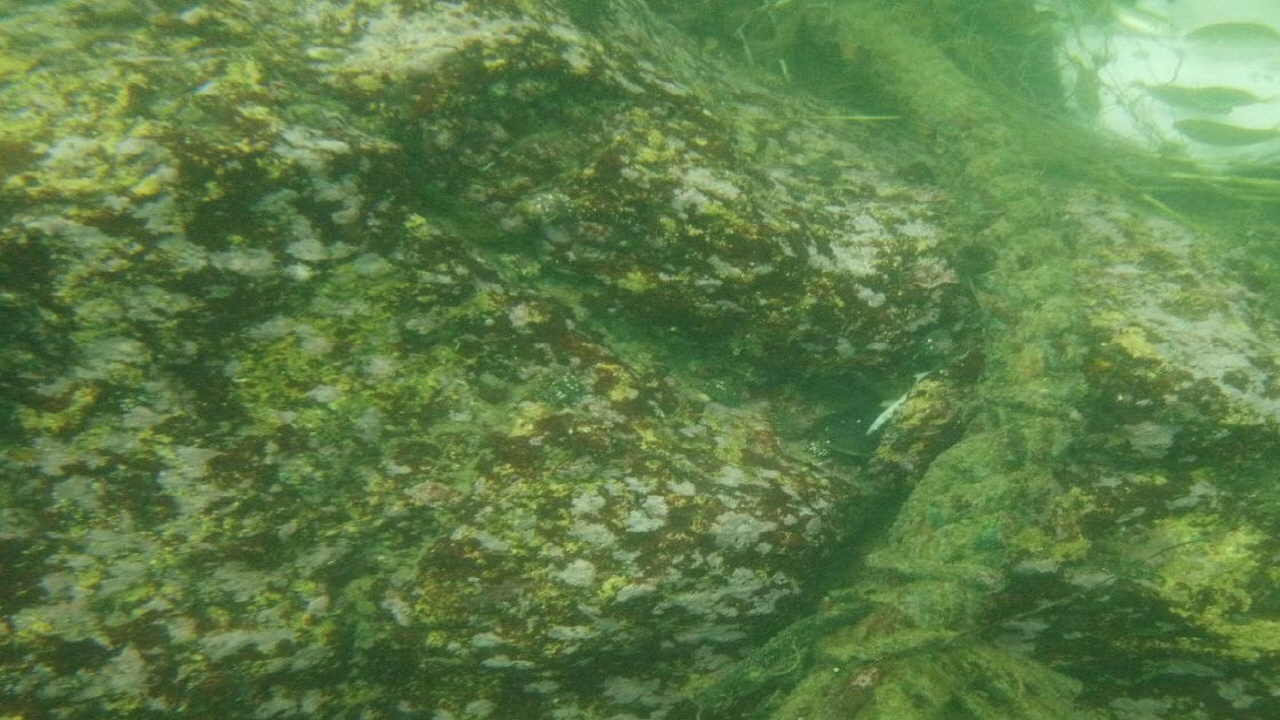rope: (761, 0, 1087, 720)
